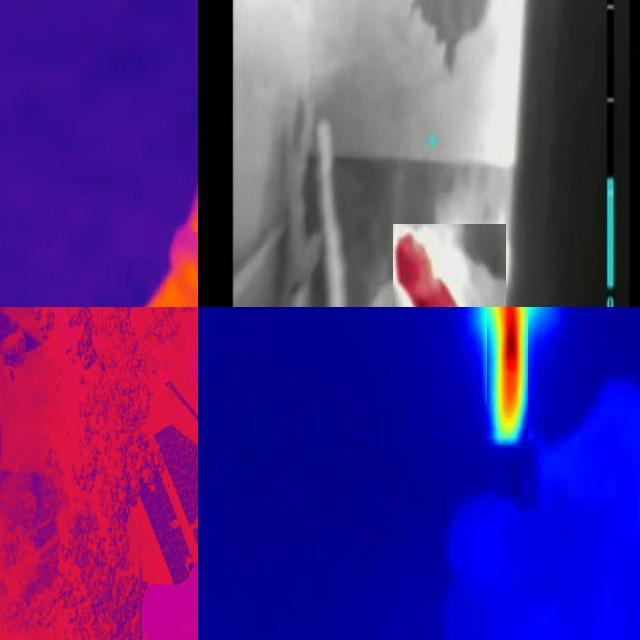fire: (394, 225, 507, 308), (488, 308, 529, 447)
